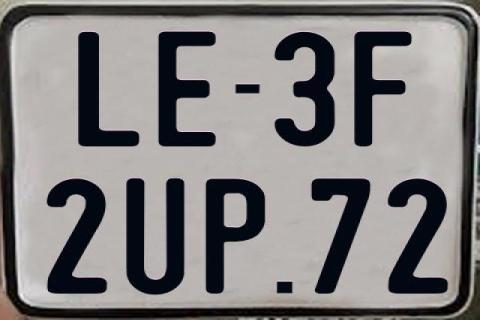0: (275, 32, 341, 150), (46, 178, 112, 294), (386, 178, 451, 294), (308, 177, 370, 297)
E: (158, 31, 220, 148)
F: (354, 29, 416, 150)
L: (75, 31, 138, 149)
P: (204, 178, 265, 298)
U: (126, 177, 187, 293)
